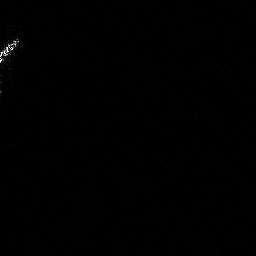ship: (1, 34, 21, 67)
